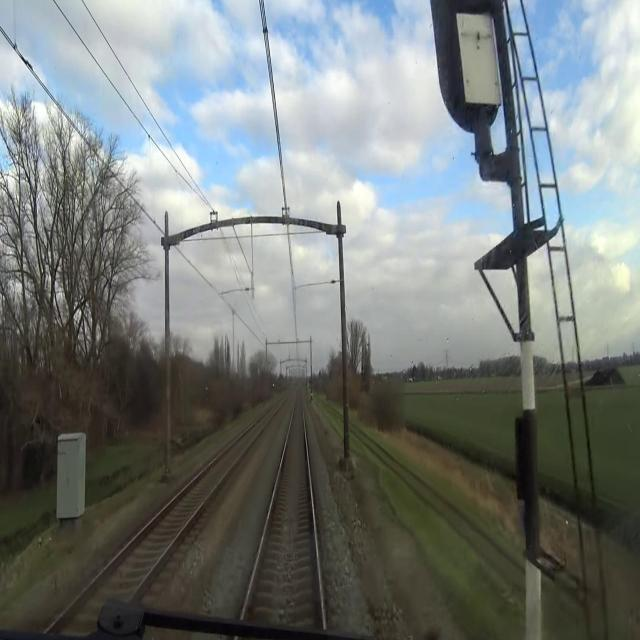rail-track: (44, 414, 269, 639), (244, 395, 321, 629)
